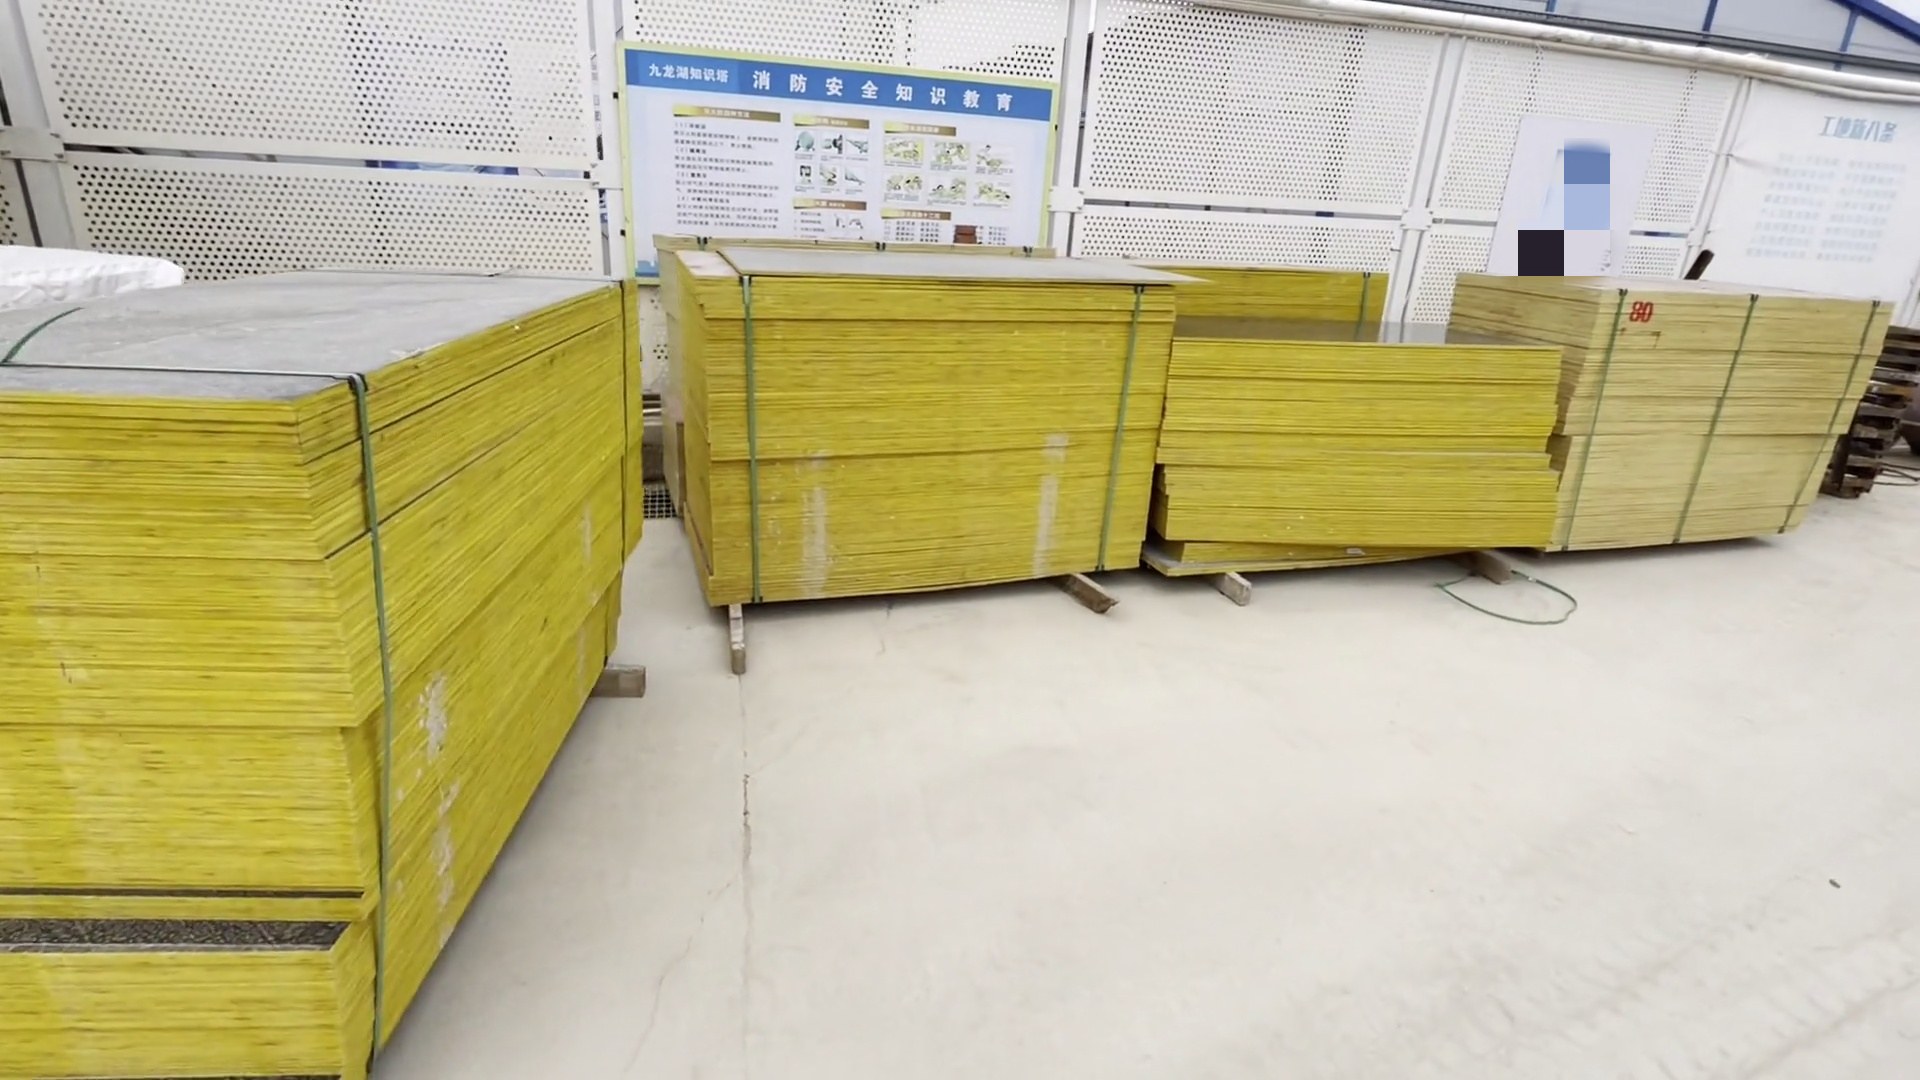board: (8, 255, 647, 1080), (654, 247, 1875, 638)
